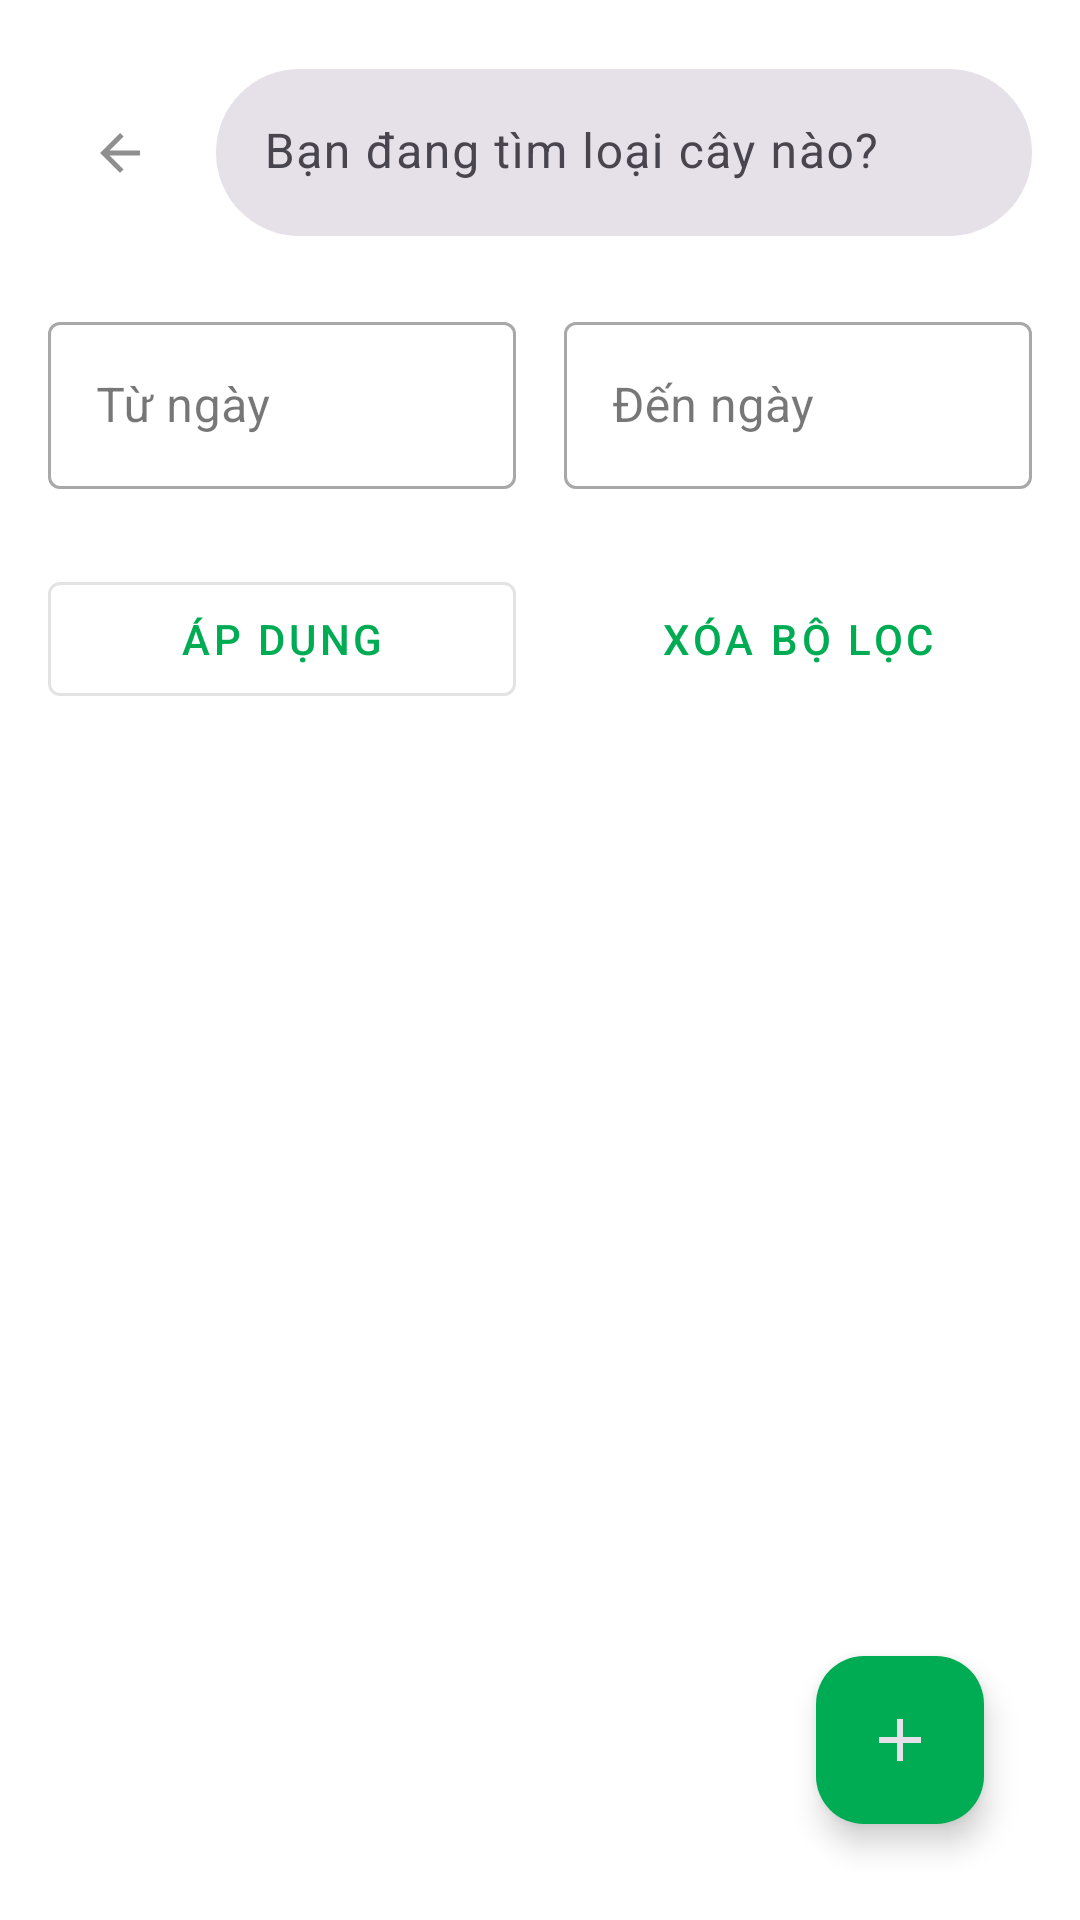

Screen size 1080px x 1920px. Icon name, then its box in pixels as (x1, y1, x2, y2):
back arrow: (100, 133, 140, 173)
Thêm mã giảm giá mới: (816, 1656, 984, 1824)
